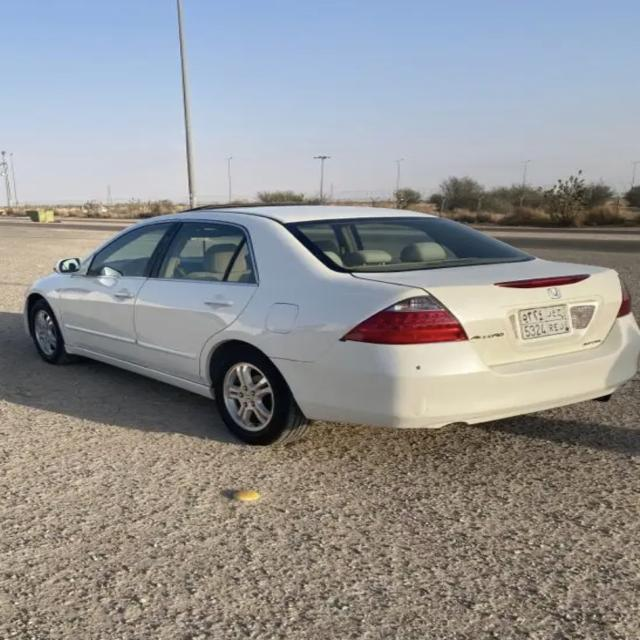license_plate: (517, 308, 572, 334)
